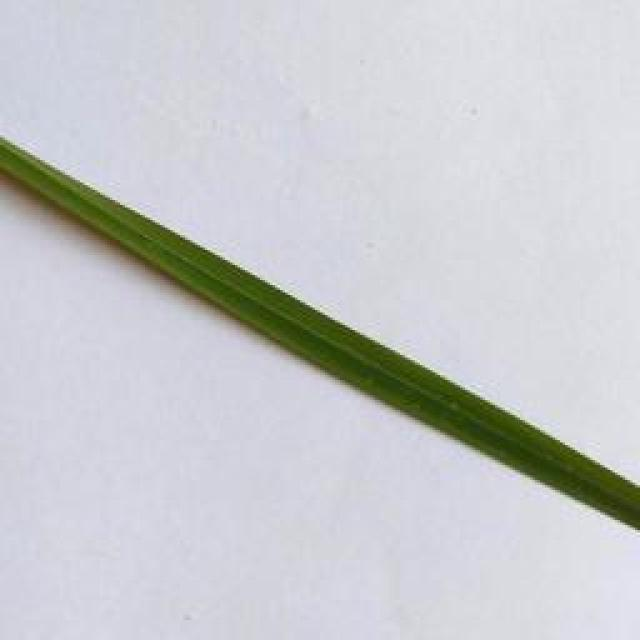Healthy-Plant: (0, 133, 640, 530)
